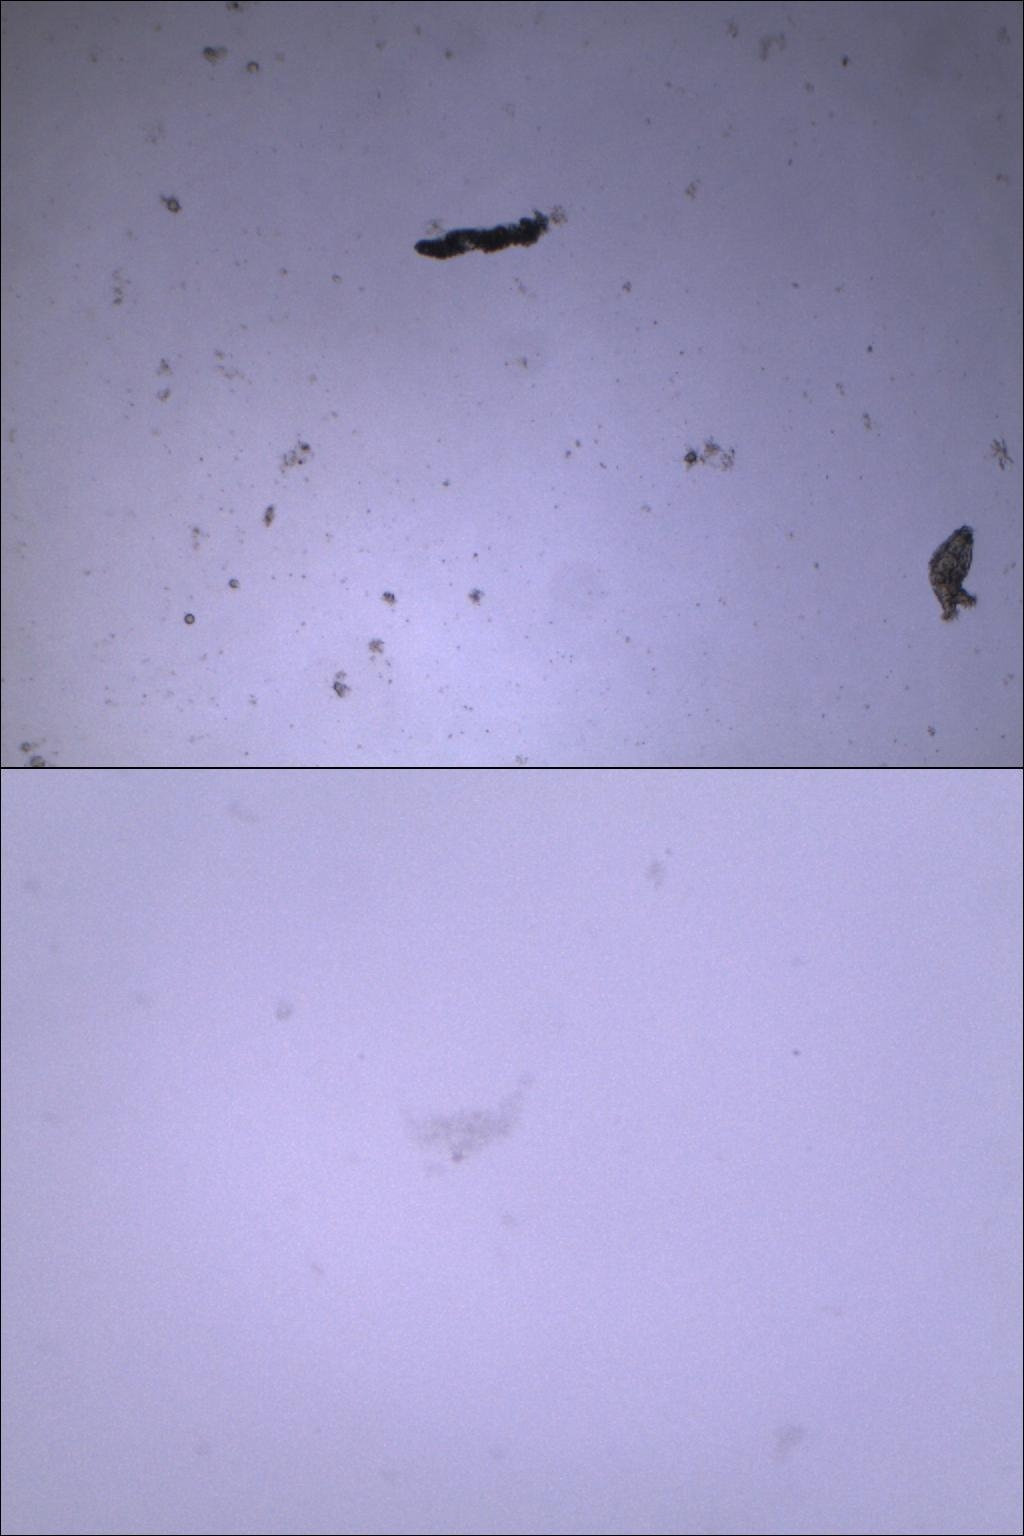N.Fowleri Amoeba: (371, 1064, 553, 1187)
Proteus Amoeba: (407, 195, 563, 283)
